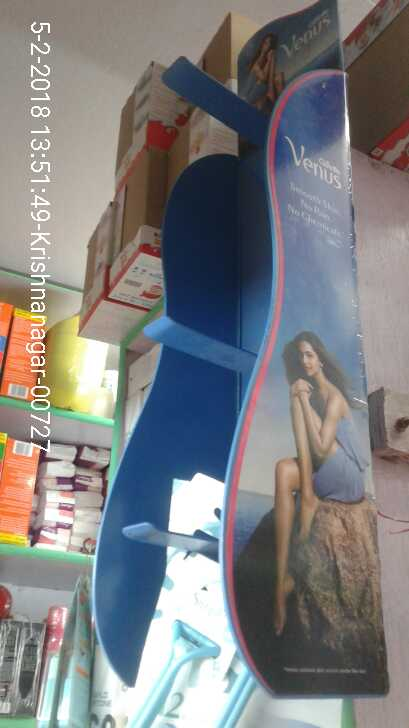reject: (196, 268, 289, 396)
